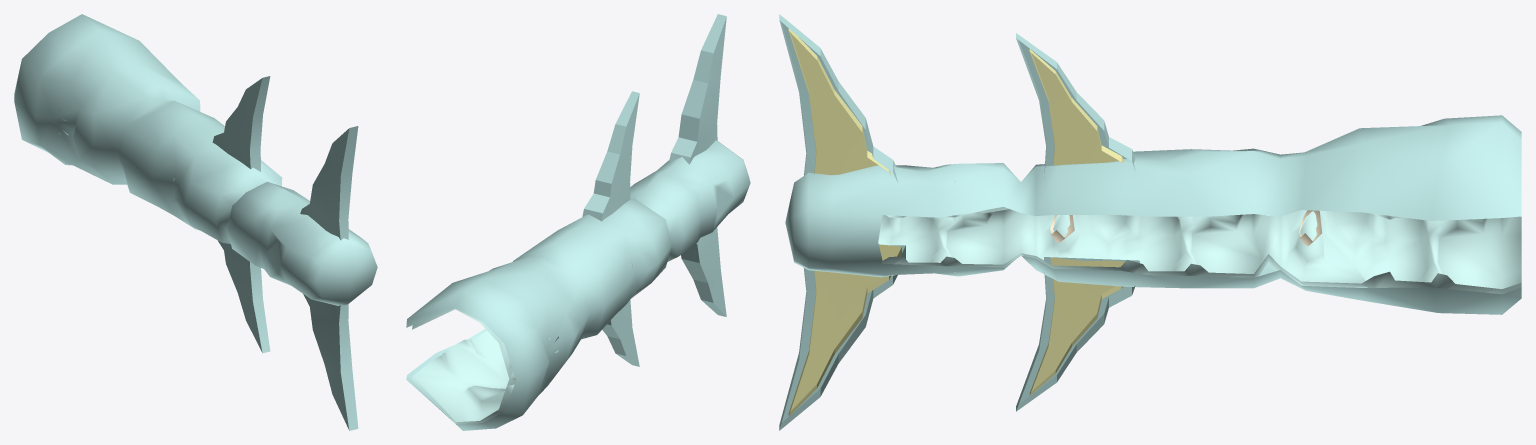
3 views of the same model, side by side, from view 1: azimuth 30°, elevation 25°; view 2: azimuth 150°, elevation 25°; view 3: azimuth 270°, elevation 25° (orthographic). The views are drawn at different scales.
Parts seen in each view (by area): view 1: Object122; view 2: Object122; view 3: Object122.
Boxes of the visible parts, x1,y1,x2,y2 form: Object122: (14,14,377,430); Object122: (406,14,750,430); Object122: (779,14,1521,430).
Bounding box in the file's own units: 10132 × 23585 × 38600.
